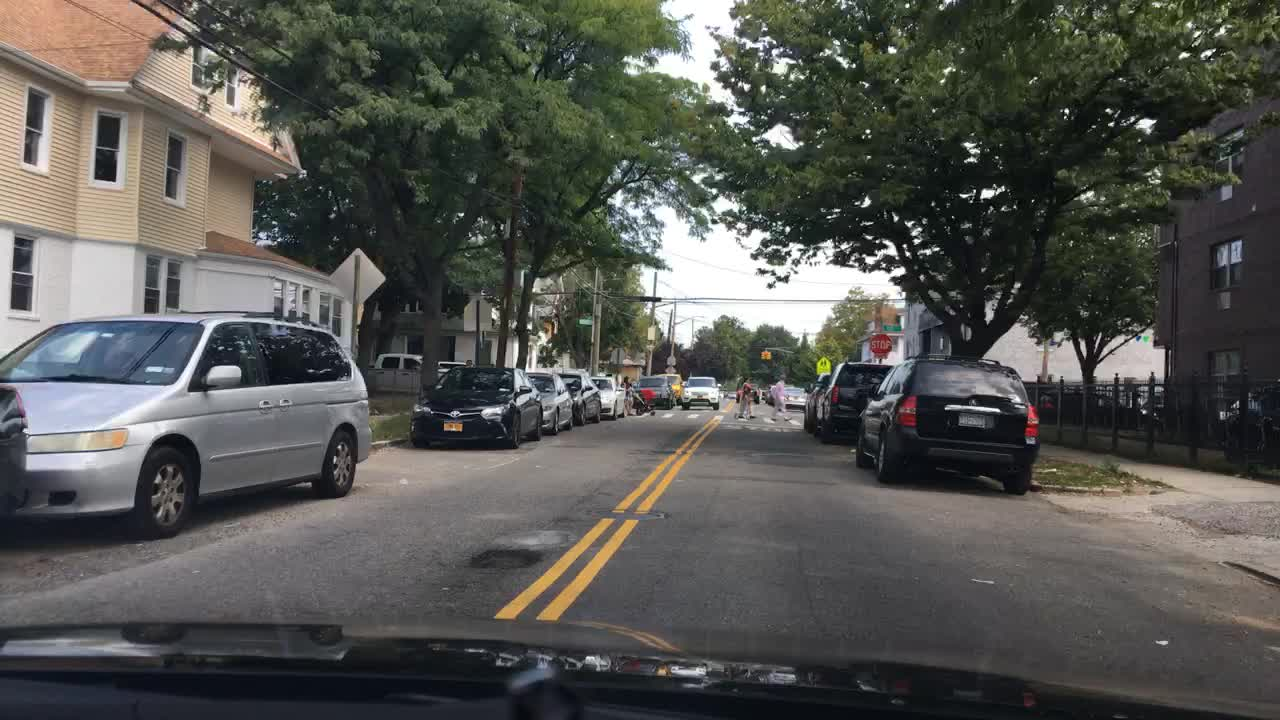car: (1, 308, 374, 535), (853, 352, 1041, 495), (405, 363, 540, 448), (818, 361, 897, 440), (1039, 387, 1162, 435), (1208, 384, 1279, 449), (0, 379, 30, 527), (526, 372, 577, 434), (562, 366, 603, 422), (594, 375, 626, 418), (801, 375, 823, 435), (683, 377, 721, 410), (635, 373, 670, 404), (374, 352, 424, 373), (661, 370, 684, 407), (783, 387, 809, 412), (437, 359, 474, 368), (758, 388, 768, 401)
person: (768, 379, 790, 424), (736, 375, 754, 417)
traffic light: (761, 350, 770, 361)
traffic sign: (867, 332, 889, 355), (813, 354, 830, 378), (880, 323, 904, 336)
